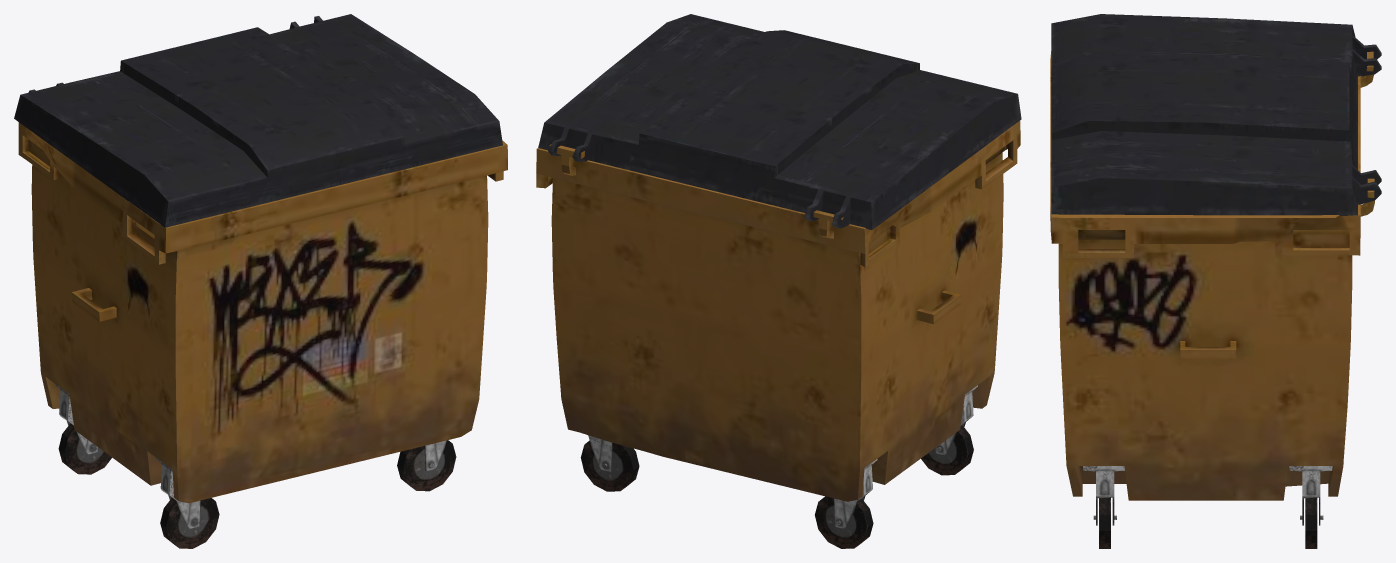
File: deco-poubelle.glb
The picture shows the model from 3 angles, left to right: view 1: azimuth 30°, elevation 25°; view 2: azimuth 150°, elevation 25°; view 3: azimuth 270°, elevation 25°; orthographic projection. The views are drawn at different scales.
Parts seen in each view (by area): view 1: bin_body_low_bin_body_low2_0, bin_lid_low_bin_lid_low1_0, wheel1_low_wheel_low_0, wheel1_low1_wheel_low_0, wheel1_low3_wheel_low_0; view 2: bin_body_low_bin_body_low2_0, bin_lid_low_bin_lid_low1_0, wheel1_low3_wheel_low_0, wheel1_low2_wheel_low_0, wheel1_low_wheel_low_0; view 3: bin_body_low_bin_body_low2_0, bin_lid_low_bin_lid_low1_0, wheel1_low2_wheel_low_0, wheel1_low1_wheel_low_0.
Boxes of the visible parts, x1,y1,x2,y2 form: bin_body_low_bin_body_low2_0: (18, 122, 507, 503); bin_lid_low_bin_lid_low1_0: (14, 14, 502, 227); wheel1_low_wheel_low_0: (156, 458, 219, 548); wheel1_low1_wheel_low_0: (397, 440, 456, 491); wheel1_low3_wheel_low_0: (55, 384, 111, 474); bin_body_low_bin_body_low2_0: (536, 120, 1020, 501); bin_lid_low_bin_lid_low1_0: (538, 14, 1021, 229); wheel1_low3_wheel_low_0: (815, 459, 877, 548); wheel1_low2_wheel_low_0: (580, 435, 639, 491); wheel1_low_wheel_low_0: (921, 385, 977, 475); bin_body_low_bin_body_low2_0: (1050, 51, 1374, 500); bin_lid_low_bin_lid_low1_0: (1051, 14, 1381, 215); wheel1_low2_wheel_low_0: (1289, 466, 1332, 548); wheel1_low1_wheel_low_0: (1083, 466, 1124, 548).
Size of the model in its own units: 1.21 by 1.32 by 0.9895.
Materials: 3 (3 with a texture image).
